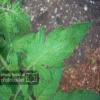Tomato mold leaf: (23, 19, 94, 80)
